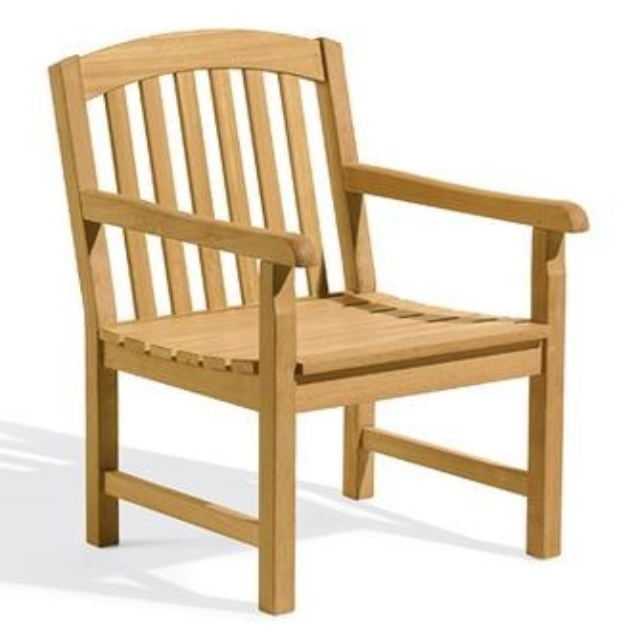obstacle: (50, 30, 586, 612)
